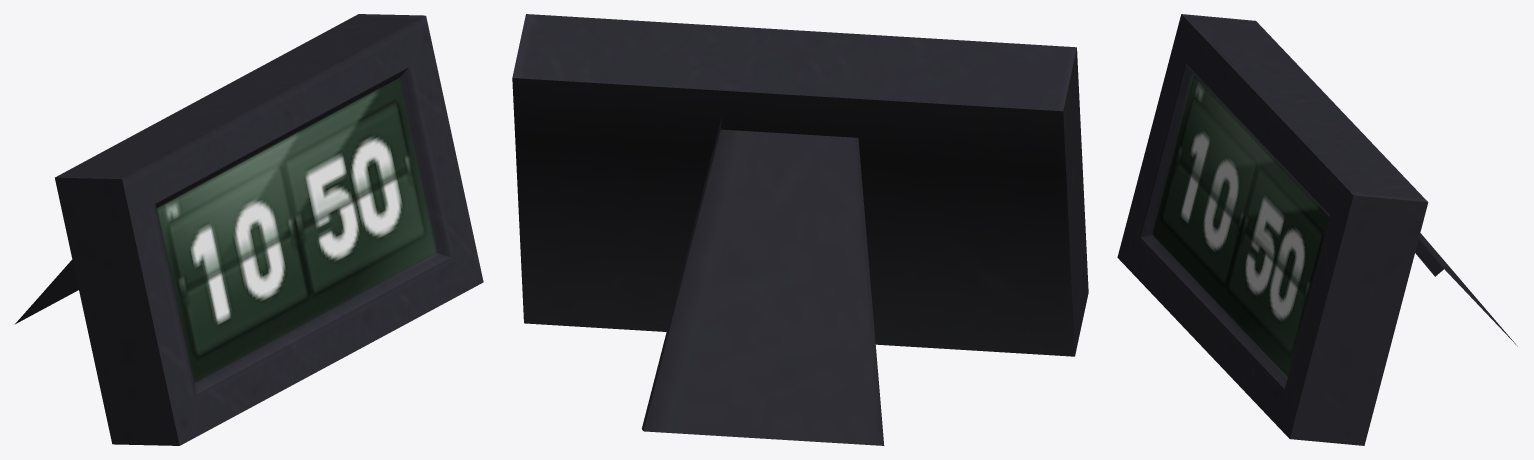
Rendered from XiuXiShi_01_shizhongi_01.FBX.
The picture shows the model from 3 angles, left to right: view 1: azimuth 30°, elevation 25°; view 2: azimuth 150°, elevation 25°; view 3: azimuth 270°, elevation 25°; orthographic projection. The views are drawn at different scales.
Visible parts, largest first — view 1: XiuXiShi_shizhong; view 2: XiuXiShi_shizhong; view 3: XiuXiShi_shizhong.
Boxes of the visible parts, left/top/right/bottom form: XiuXiShi_shizhong: left=15, top=14, right=483, bottom=445; XiuXiShi_shizhong: left=512, top=14, right=1088, bottom=445; XiuXiShi_shizhong: left=1117, top=14, right=1517, bottom=445.
Size of the model in its own units: 105 by 60.01 by 86.67.
